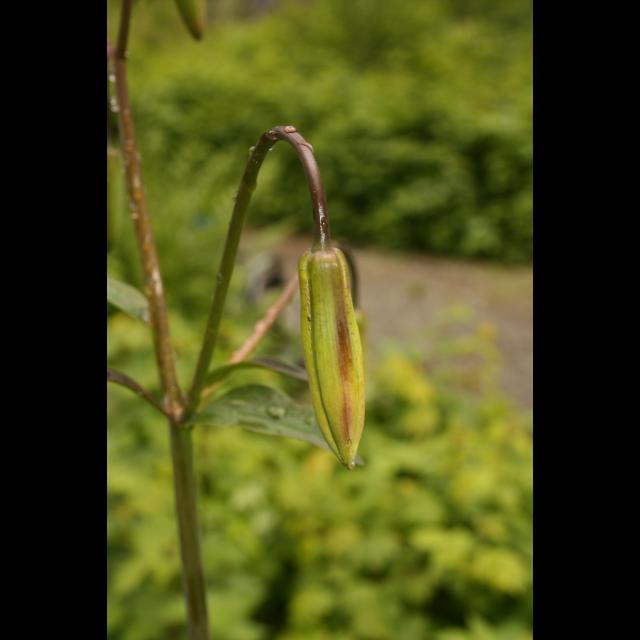Flower: (297, 246, 369, 474), (173, 0, 209, 46)
